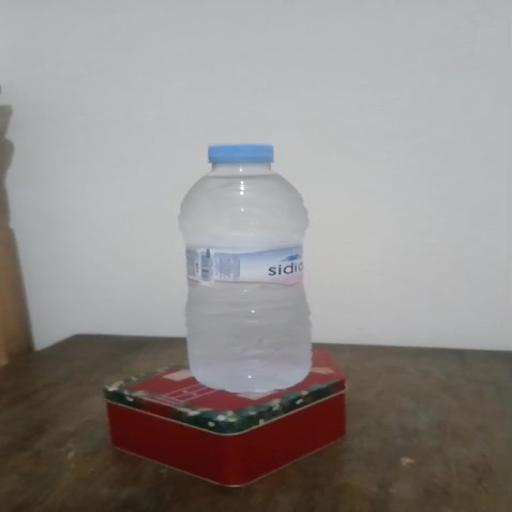bouteille conformite: (159, 131, 323, 395)
